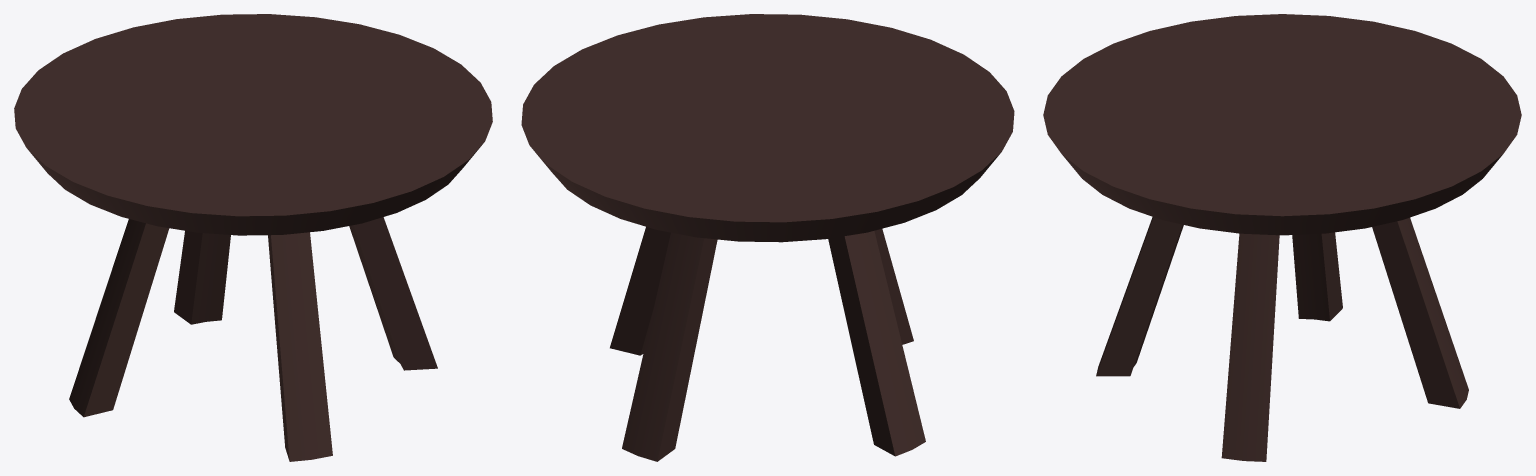
File: TableRonde_22.fbx
The picture shows the model from 3 angles, left to right: view 1: azimuth 30°, elevation 25°; view 2: azimuth 150°, elevation 25°; view 3: azimuth 270°, elevation 25°; orthographic projection. The views are drawn at different scales.
Visible parts, largest first — view 1: pCylinder1779; view 2: pCylinder1779; view 3: pCylinder1779.
Boxes of the visible parts, bbox=[...] form: pCylinder1779: bbox=[14, 14, 492, 461]; pCylinder1779: bbox=[521, 14, 1014, 461]; pCylinder1779: bbox=[1043, 14, 1521, 461].
Bounding box in the file's own units: 44.11 × 27.26 × 44.11.
